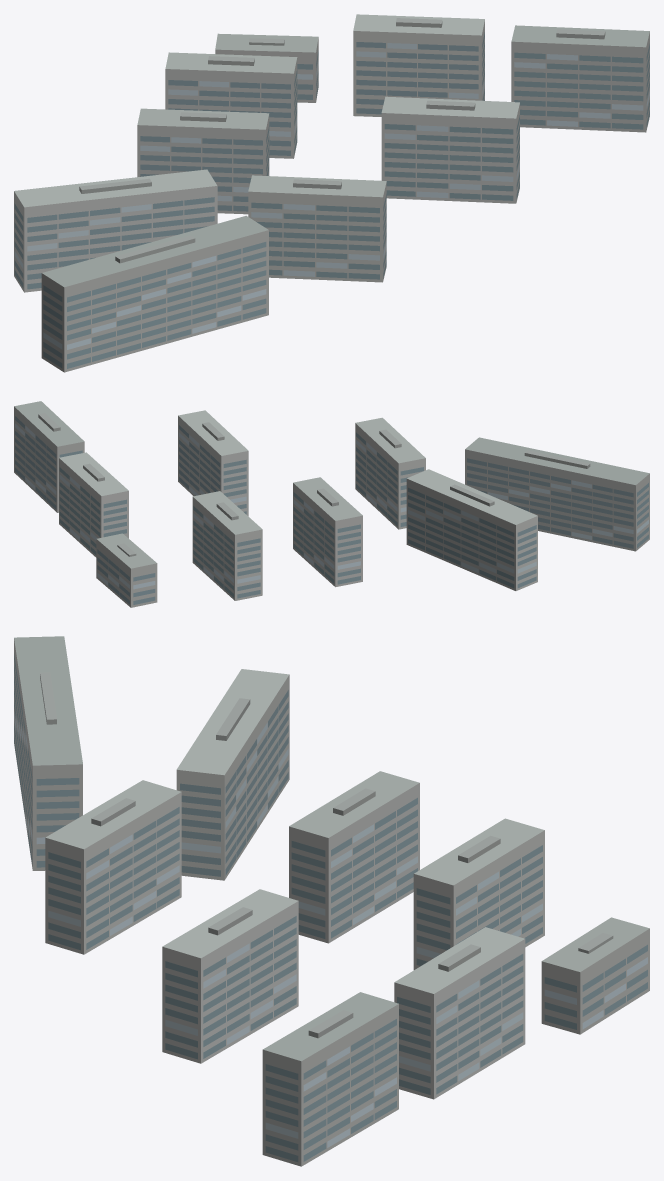
Rendered from apt-a10028046.glb.
The picture shows the model from 3 angles, top to bottom: view 1: azimuth 30°, elevation 25°; view 2: azimuth 150°, elevation 25°; view 3: azimuth 270°, elevation 25°; orthographic projection. The views are drawn at different scales.
Visible parts, largest first — view 1: apt-a10028046; view 2: apt-a10028046; view 3: apt-a10028046.
Boxes of the visible parts, x1,y1,x2,y2 form: apt-a10028046: (14,14,649,372); apt-a10028046: (14,401,649,607); apt-a10028046: (14,636,649,1166).
Size of the model in its own units: 223 by 27 by 141.
